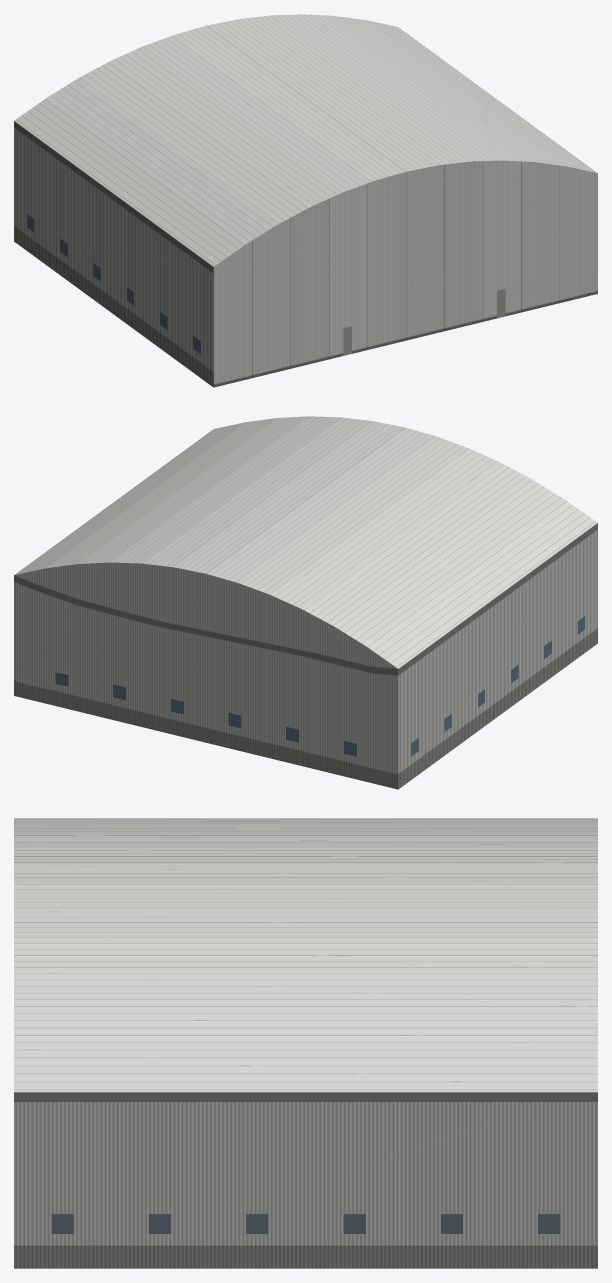
File: khua_hangar_40x36.glb
The picture shows the model from 3 angles, top to bottom: view 1: azimuth 30°, elevation 25°; view 2: azimuth 150°, elevation 25°; view 3: azimuth 270°, elevation 25°; orthographic projection. The views are drawn at different scales.
Visible parts, largest first — view 1: khua_hangar_40x36_hangar_roof, khua_hangar_40x36_hangar_door, khua_hangar_40x36_hangar_wall; view 2: khua_hangar_40x36_hangar_wall, khua_hangar_40x36_hangar_roof; view 3: khua_hangar_40x36_hangar_roof, khua_hangar_40x36_hangar_wall.
Boxes of the visible parts, x1=… form: khua_hangar_40x36_hangar_roof: x1=14, y1=14, x2=596, y2=266; khua_hangar_40x36_hangar_door: x1=213, y1=160, x2=597, y2=387; khua_hangar_40x36_hangar_wall: x1=14, y1=121, x2=213, y2=387; khua_hangar_40x36_hangar_wall: x1=14, y1=523, x2=597, y2=789; khua_hangar_40x36_hangar_roof: x1=15, y1=416, x2=597, y2=668; khua_hangar_40x36_hangar_roof: x1=14, y1=818, x2=597, y2=1092; khua_hangar_40x36_hangar_wall: x1=14, y1=1092, x2=597, y2=1268.
Bounding box in the file's own units: 40 × 16.8 × 36.
3 materials, 3 textured.
